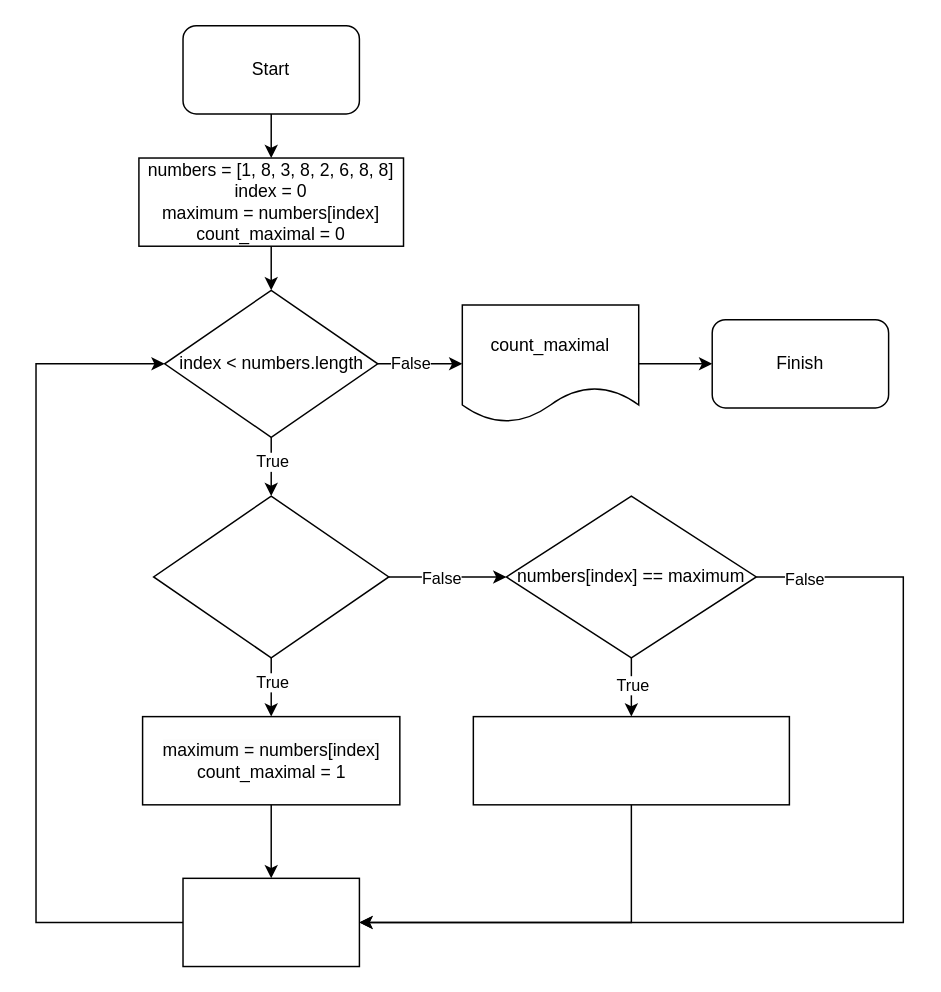
Image size: 941x992. Some labels were removed from this diagram. Each missing label, with the centre of its shape:
count_maximal = count_maximal + 1: point 630,760
index = index + 1: point 270,922
numbers[index] > maximum: point 270,576
